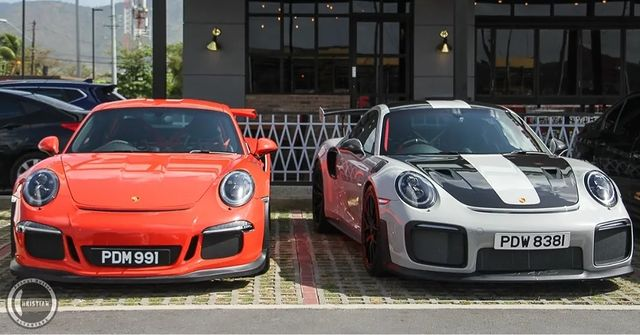License-Plate: (91, 249, 169, 265), (495, 232, 568, 247)
